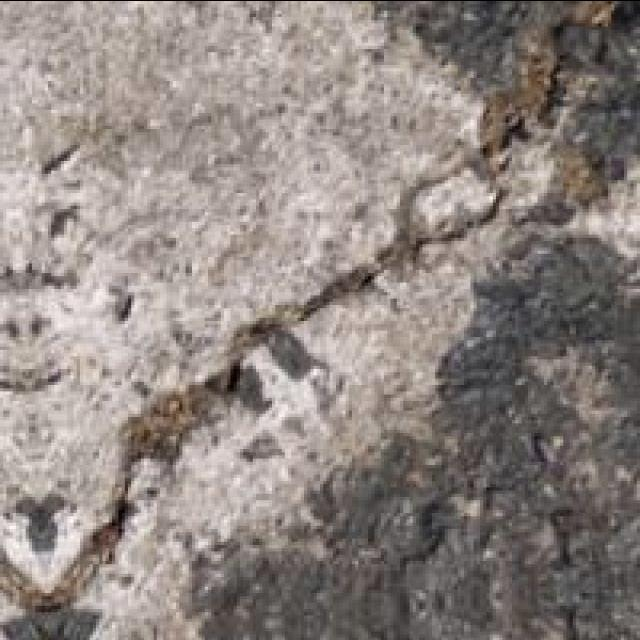SurfaceCrack: (50, 164, 476, 592)
